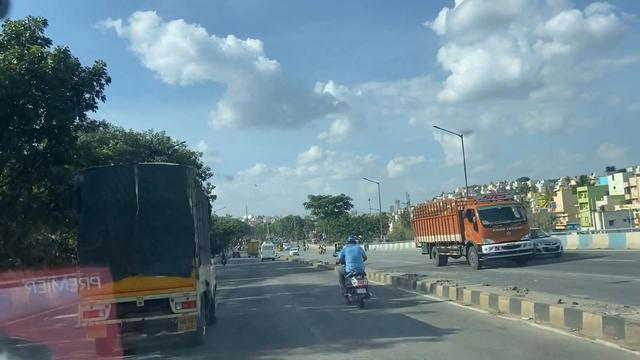HMV: (78, 166, 218, 346)
LMV: (333, 236, 374, 312)
